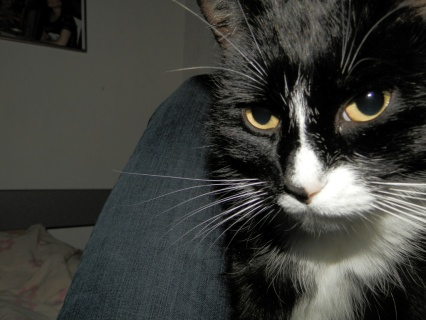Cat: (112, 0, 426, 318)
